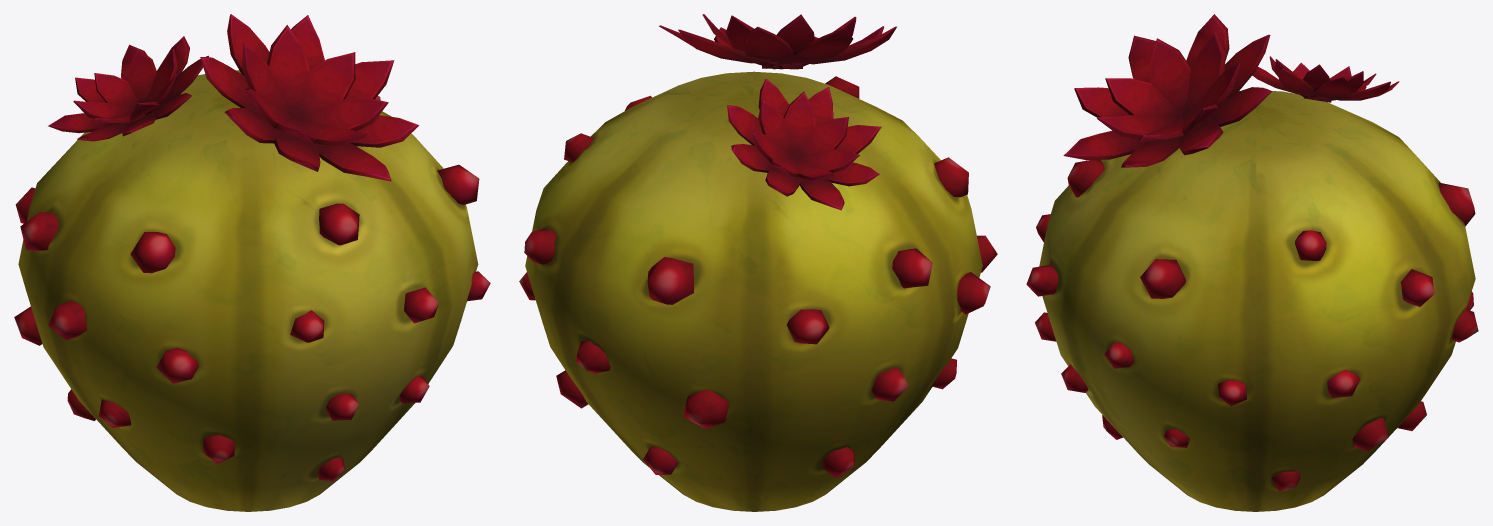
File: DE_Cactus_17.fbx
3 views of the same model, side by side, from view 1: azimuth 30°, elevation 25°; view 2: azimuth 150°, elevation 25°; view 3: azimuth 270°, elevation 25° (orthographic). The views are drawn at different scales.
Visible parts, largest first — view 1: DE_Cactus_17; view 2: DE_Cactus_17; view 3: DE_Cactus_17.
Part boxes in pixels (x1,y1,x2,y2): DE_Cactus_17: [14, 14, 490, 511]; DE_Cactus_17: [519, 14, 997, 511]; DE_Cactus_17: [1026, 14, 1478, 511].
Bounding box in the file's own units: 3.21 × 3.33 × 3.1.
